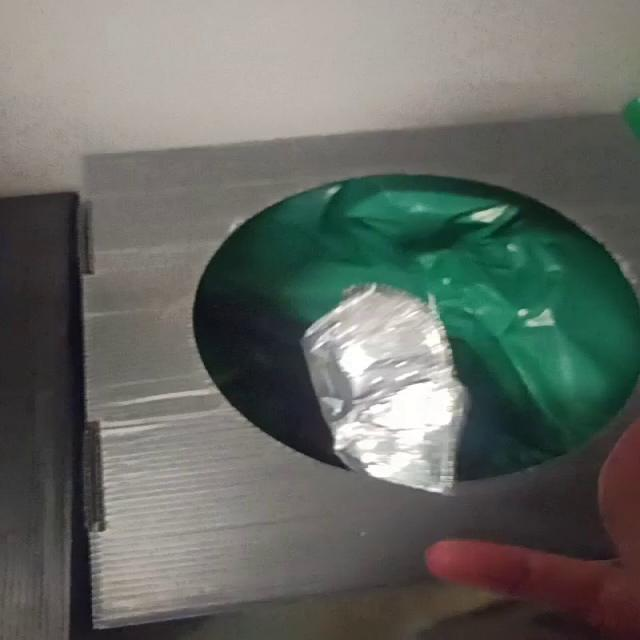Bin: (83, 116, 639, 630)
Metal: (301, 285, 467, 494)
